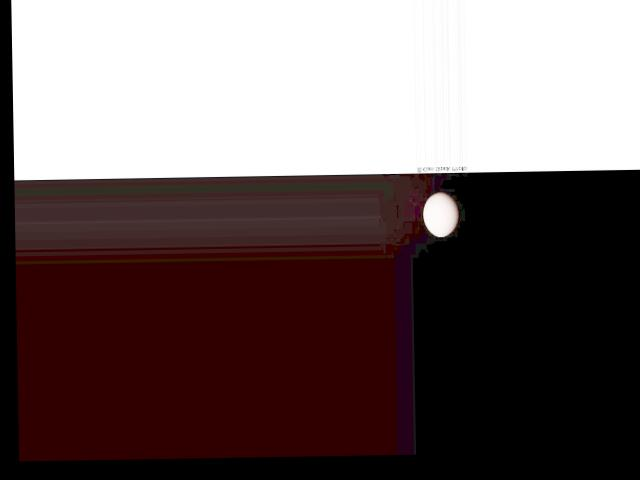egg: (423, 191, 458, 237)
